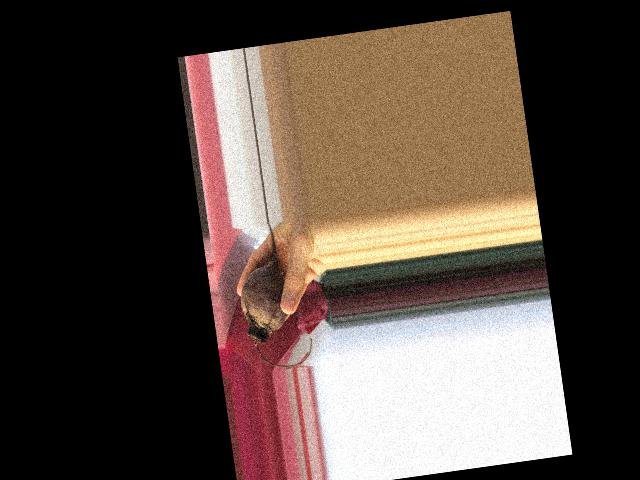beet: (230, 219, 315, 373)
